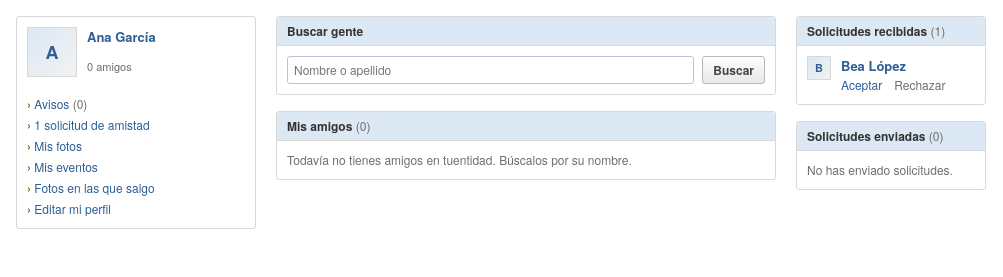
Test: People › accepts a request and asks before removing a friend
Click the button with aria-label "Aceptar a Bea" at (862, 84), box [841,76,882,94]
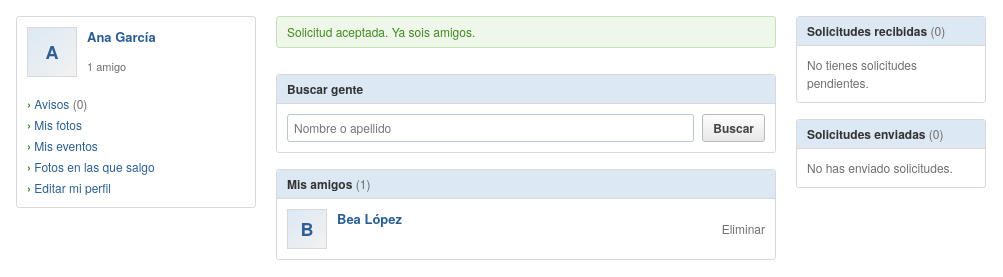
Expected: the text "Solicitud aceptada. Ya sois amigos." is shown, [276,16,776,48]
Click the button with aria-label "Eliminar a Bea de tus amigos" at (743, 229), box [722,220,765,238]
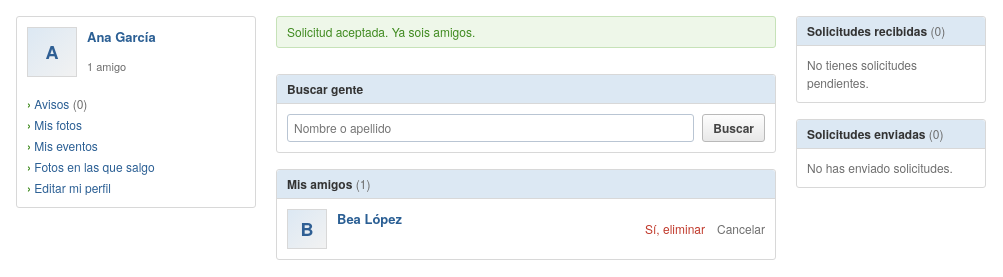
Click the button "Sí, eliminar" at (675, 229), box [645,220,705,238]
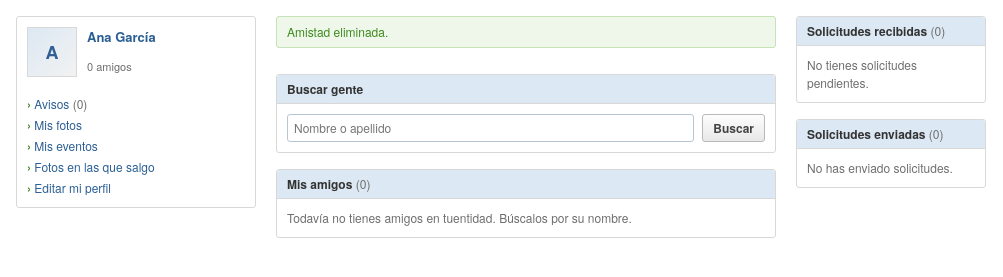
Expected: the text "Amistad eliminada." is shown, [276,16,776,48]
Expected: the text "Todavía no tienes amigos en tuentidad. Búscalos por su nombre." is shown, [287,209,632,226]
